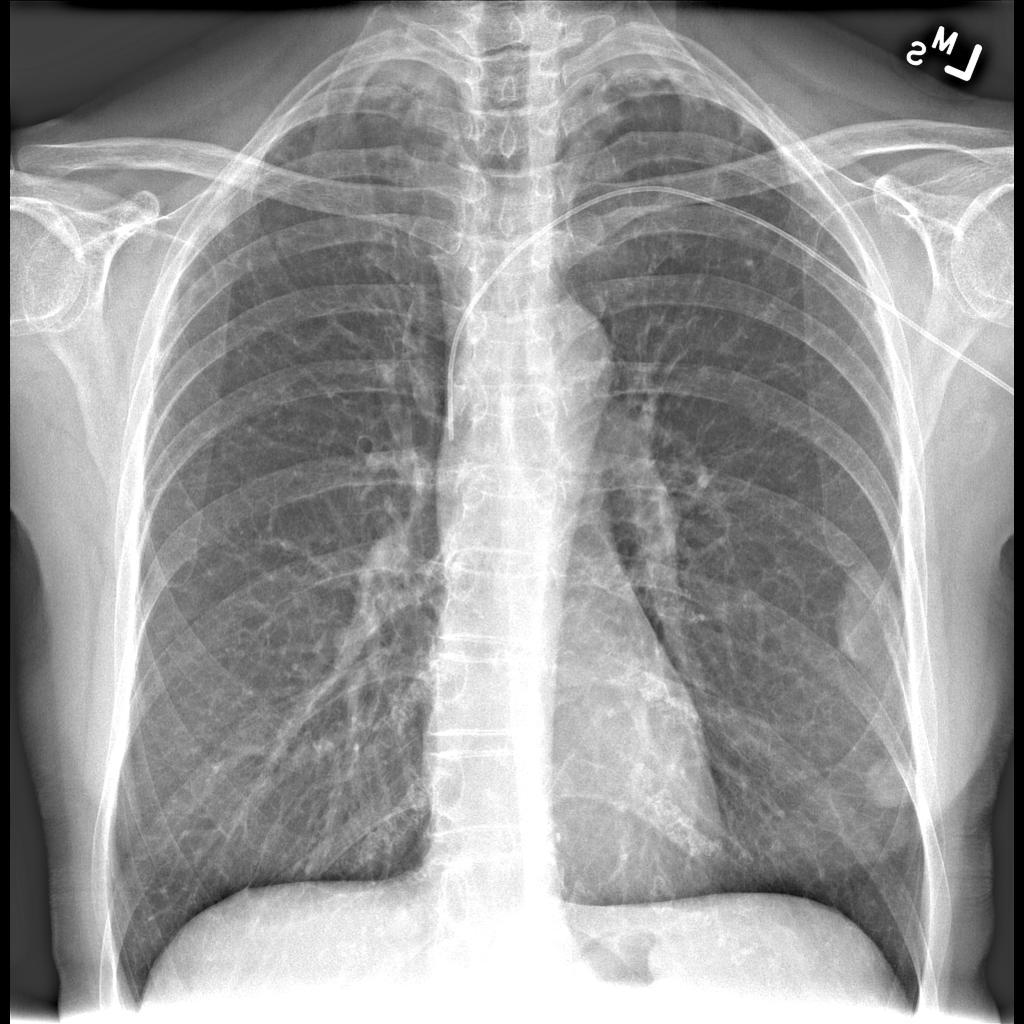Nodule: (822, 559, 909, 670), (853, 742, 923, 813)
